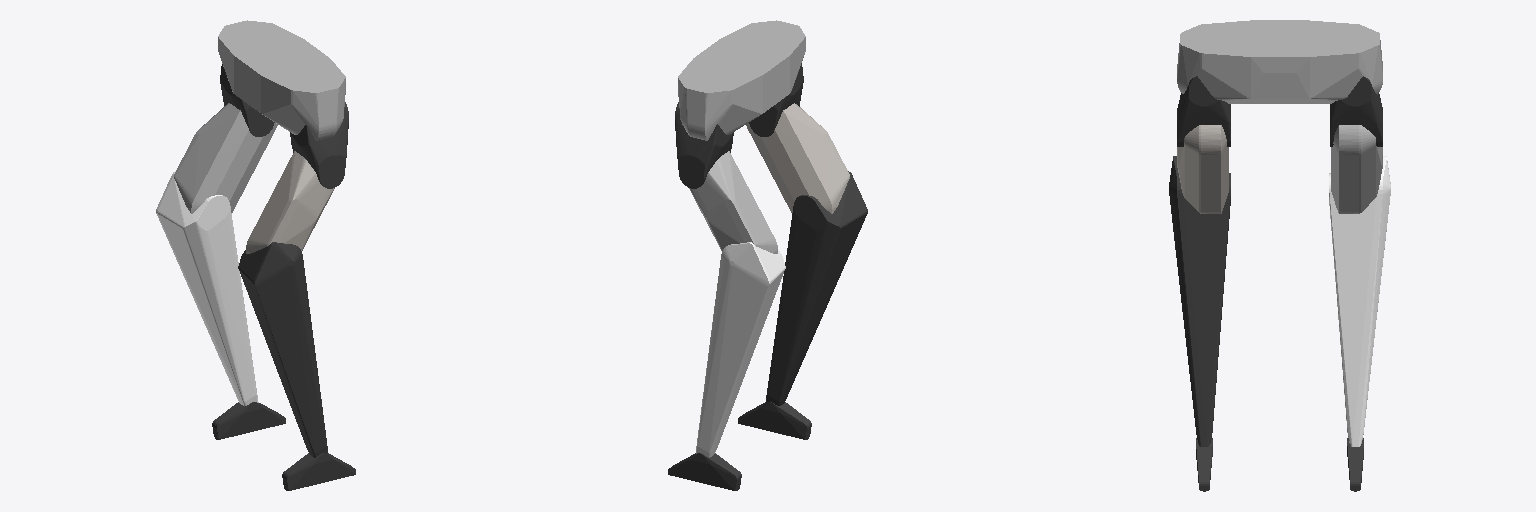
URDF robot description (spryped_urdf_rev06):
<?xml version="1.0" encoding="utf-8"?>
<!-- This URDF was automatically created by SolidWorks to URDF Exporter! Originally created by [author] ([email redacted]) 
     Commit Version: 1.5.1-0-g916b5db  Build Version: 1.5.7152.31018
     For more information, please see http://wiki.ros.org/sw_urdf_exporter -->
<robot
  name="spryped_urdf_rev06">
  <link
    name="body">
    <inertial>
      <origin
        xyz="0.047181 -3.0609E-06 0.076165"
        rpy="0 0 0" />
      <mass
        value="3.7038" />
      <inertia
        ixx="0.0033545"
        ixy="-3.2672E-09"
        ixz="8.3384E-06"
        iyy="0.0042956"
        iyz="-2.3336E-06"
        izz="0.0059126" />
    </inertial>
    <visual>
      <origin
        xyz="0 0 0"
        rpy="0 0 0" />
      <geometry>
        <mesh
          filename="package://spryped_urdf_rev06/meshes/body.STL" />
      </geometry>
      <material
        name="">
        <color
          rgba="0.75294 0.75294 0.75294 1" />
      </material>
    </visual>
    <collision>
      <origin
        xyz="0 0 0"
        rpy="0 0 0" />
      <geometry>
        <mesh
          filename="package://spryped_urdf_rev06/meshes/body.STL" />
      </geometry>
    </collision>
  </link>
  <link
    name="left femur">
    <inertial>
      <origin
        xyz="0.00069777 0.056842 0.0014637"
        rpy="0 0 0" />
      <mass
        value="0.30999" />
      <inertia
        ixx="0.00070116"
        ixy="3.5726E-05"
        ixz="9.483E-08"
        iyy="0.00059024"
        iyz="-3.5642E-05"
        izz="0.00069104" />
    </inertial>
    <visual>
      <origin
        xyz="0 0 0"
        rpy="0 0 0" />
      <geometry>
        <mesh
          filename="package://spryped_urdf_rev06/meshes/left femur.STL" />
      </geometry>
      <material
        name="">
        <color
          rgba="0.29804 0.29804 0.29804 1" />
      </material>
    </visual>
    <collision>
      <origin
        xyz="0 0 0"
        rpy="0 0 0" />
      <geometry>
        <mesh
          filename="package://spryped_urdf_rev06/meshes/left femur.STL" />
      </geometry>
    </collision>
  </link>
  <joint
    name="1"
    type="revolute">
    <origin
      xyz="0.051822 0.144 0.055904"
      rpy="-1.5708 0 0" />
    <parent
      link="body" />
    <child
      link="left femur" />
    <axis
      xyz="1 0 0" />
    <limit
      lower="-3.14"
      upper="3.14"
      effort="0"
      velocity="0" />
  </joint>
  <link
    name="left tibiotarsus">
    <inertial>
      <origin
        xyz="-0.0535 0.08423 -0.00048074"
        rpy="0 0 0" />
      <mass
        value="2.8773" />
      <inertia
        ixx="0.0034958"
        ixy="0.0014826"
        ixz="-8.2901E-08"
        iyy="0.0022584"
        iyz="1.2361E-07"
        izz="0.0053351" />
    </inertial>
    <visual>
      <origin
        xyz="0 0 0"
        rpy="0 0 0" />
      <geometry>
        <mesh
          filename="package://spryped_urdf_rev06/meshes/left tibiotarsus.STL" />
      </geometry>
      <material
        name="">
        <color
          rgba="0.75294 0.75294 0.75294 1" />
      </material>
    </visual>
    <collision>
      <origin
        xyz="0 0 0"
        rpy="0 0 0" />
      <geometry>
        <mesh
          filename="package://spryped_urdf_rev06/meshes/left tibiotarsus.STL" />
      </geometry>
    </collision>
  </link>
  <joint
    name="2"
    type="revolute">
    <origin
      xyz="0 0.114 0"
      rpy="0 0 0" />
    <parent
      link="left femur" />
    <child
      link="left tibiotarsus" />
    <axis
      xyz="0 0 -1" />
    <limit
      lower="-3.14"
      upper="3.14"
      effort="0"
      velocity="0" />
  </joint>
  <link
    name="left tarsometatarsus">
    <inertial>
      <origin
        xyz="0.053129 0.093369 0.015338"
        rpy="0 0 0" />
      <mass
        value="0.38839" />
      <inertia
        ixx="0.00096573"
        ixy="-0.00056636"
        ixz="-1.259E-05"
        iyy="0.0010982"
        iyz="4.5106E-05"
        izz="0.0015965" />
    </inertial>
    <visual>
      <origin
        xyz="0 0 0"
        rpy="0 0 0" />
      <geometry>
        <mesh
          filename="package://spryped_urdf_rev06/meshes/left tarsometatarsus.STL" />
      </geometry>
      <material
        name="">
        <color
          rgba="1 1 1 1" />
      </material>
    </visual>
    <collision>
      <origin
        xyz="0 0 0"
        rpy="0 0 0" />
      <geometry>
        <mesh
          filename="package://spryped_urdf_rev06/meshes/left tarsometatarsus.STL" />
      </geometry>
    </collision>
  </link>
  <joint
    name="3"
    type="revolute">
    <origin
      xyz="-0.105453933582408 0.168761571135129 0"
      rpy="0 0 0.558505360638189" />
    <parent
      link="left tibiotarsus" />
    <child
      link="left tarsometatarsus" />
    <axis
      xyz="0 0 -1" />
    <limit
      lower="-3.14"
      upper="3.14"
      effort="0"
      velocity="0" />
  </joint>
  <link
    name="left toe">
    <inertial>
      <origin
        xyz="-0.015193 0.029454 -8.5534E-11"
        rpy="0 0 0" />
      <mass
        value="0.11189" />
      <inertia
        ixx="4.0659E-05"
        ixy="-3.5337E-05"
        ixz="7.6361E-13"
        iyy="0.00018716"
        iyz="7.4475E-14"
        izz="0.00021756" />
    </inertial>
    <visual>
      <origin
        xyz="0 0 0"
        rpy="0 0 0" />
      <geometry>
        <mesh
          filename="package://spryped_urdf_rev06/meshes/left toe.STL" />
      </geometry>
      <material
        name="">
        <color
          rgba="0.29804 0.29804 0.29804 1" />
      </material>
    </visual>
    <collision>
      <origin
        xyz="0 0 0"
        rpy="0 0 0" />
      <geometry>
        <mesh
          filename="package://spryped_urdf_rev06/meshes/left toe.STL" />
      </geometry>
    </collision>
  </link>
  <joint
    name="4"
    type="revolute">
    <origin
      xyz="0.348429623081206 0.358603956697683 -0.000249999999999057"
      rpy="0 0 -0.771008986271208" />
    <parent
      link="left tarsometatarsus" />
    <child
      link="left toe" />
    <axis
      xyz="0 0 -1" />
    <limit
      lower="-0.7"
      upper="0.9"
      effort="0"
      velocity="0" />
  </joint>
  <link
    name="right femur">
    <inertial>
      <origin
        xyz="0.00069773 0.056842 -0.0014638"
        rpy="0 0 0" />
      <mass
        value="0.30999" />
      <inertia
        ixx="0.00070116"
        ixy="3.5726E-05"
        ixz="-9.5179E-08"
        iyy="0.00059025"
        iyz="3.5642E-05"
        izz="0.00069104" />
    </inertial>
    <visual>
      <origin
        xyz="0 0 0"
        rpy="0 0 0" />
      <geometry>
        <mesh
          filename="package://spryped_urdf_rev06/meshes/right femur.STL" />
      </geometry>
      <material
        name="">
        <color
          rgba="0.29804 0.29804 0.29804 1" />
      </material>
    </visual>
    <collision>
      <origin
        xyz="0 0 0"
        rpy="0 0 0" />
      <geometry>
        <mesh
          filename="package://spryped_urdf_rev06/meshes/right femur.STL" />
      </geometry>
    </collision>
  </link>
  <joint
    name="5"
    type="revolute">
    <origin
      xyz="0.051822 -0.144 0.055904"
      rpy="-1.5708 0 0" />
    <parent
      link="body" />
    <child
      link="right femur" />
    <axis
      xyz="1 0 0" />
    <limit
      lower="-3.14"
      upper="3.14"
      effort="0"
      velocity="0" />
  </joint>
  <link
    name="right tibiotarsus">
    <inertial>
      <origin
        xyz="-0.053501 0.08423 0.00041314"
        rpy="0 0 0" />
      <mass
        value="2.8772" />
      <inertia
        ixx="0.0034958"
        ixy="0.0014826"
        ixz="7.9551E-08"
        iyy="0.0022584"
        iyz="-1.374E-07"
        izz="0.0053351" />
    </inertial>
    <visual>
      <origin
        xyz="0 0 0"
        rpy="0 0 0" />
      <geometry>
        <mesh
          filename="package://spryped_urdf_rev06/meshes/right tibiotarsus.STL" />
      </geometry>
      <material
        name="">
        <color
          rgba="0.77647 0.75686 0.73725 1" />
      </material>
    </visual>
    <collision>
      <origin
        xyz="0 0 0"
        rpy="0 0 0" />
      <geometry>
        <mesh
          filename="package://spryped_urdf_rev06/meshes/right tibiotarsus.STL" />
      </geometry>
    </collision>
  </link>
  <joint
    name="6"
    type="revolute">
    <origin
      xyz="0 0.114000000000013 0"
      rpy="0 0 0" />
    <parent
      link="right femur" />
    <child
      link="right tibiotarsus" />
    <axis
      xyz="0 0 1" />
    <limit
      lower="-3.14"
      upper="3.14"
      effort="0"
      velocity="0" />
  </joint>
  <link
    name="right tarsometatarsus">
    <inertial>
      <origin
        xyz="0.053129 0.093369 -0.015837"
        rpy="0 0 0" />
      <mass
        value="0.38839" />
      <inertia
        ixx="0.00096573"
        ixy="-0.00056636"
        ixz="1.2589E-05"
        iyy="0.0010982"
        iyz="-4.5106E-05"
        izz="0.0015965" />
    </inertial>
    <visual>
      <origin
        xyz="0 0 0"
        rpy="0 0 0" />
      <geometry>
        <mesh
          filename="package://spryped_urdf_rev06/meshes/right tarsometatarsus.STL" />
      </geometry>
      <material
        name="">
        <color
          rgba="0.29804 0.29804 0.29804 1" />
      </material>
    </visual>
    <collision>
      <origin
        xyz="0 0 0"
        rpy="0 0 0" />
      <geometry>
        <mesh
          filename="package://spryped_urdf_rev06/meshes/right tarsometatarsus.STL" />
      </geometry>
    </collision>
  </link>
  <joint
    name="7"
    type="revolute">
    <origin
      xyz="-0.105453933582408 0.168761571135127 0"
      rpy="0 0 0.55850536063819" />
    <parent
      link="right tibiotarsus" />
    <child
      link="right tarsometatarsus" />
    <axis
      xyz="0 0 1" />
    <limit
      lower="-3.14"
      upper="3.14"
      effort="0"
      velocity="0" />
  </joint>
  <link
    name="right toe">
    <inertial>
      <origin
        xyz="-0.015193 0.029454 -8.5534E-11"
        rpy="0 0 0" />
      <mass
        value="0.11189" />
      <inertia
        ixx="4.0659E-05"
        ixy="-3.5337E-05"
        ixz="7.6361E-13"
        iyy="0.00018716"
        iyz="7.4475E-14"
        izz="0.00021756" />
    </inertial>
    <visual>
      <origin
        xyz="0 0 0"
        rpy="0 0 0" />
      <geometry>
        <mesh
          filename="package://spryped_urdf_rev06/meshes/right toe.STL" />
      </geometry>
      <material
        name="">
        <color
          rgba="0.29804 0.29804 0.29804 1" />
      </material>
    </visual>
    <collision>
      <origin
        xyz="0 0 0"
        rpy="0 0 0" />
      <geometry>
        <mesh
          filename="package://spryped_urdf_rev06/meshes/right toe.STL" />
      </geometry>
    </collision>
  </link>
  <joint
    name="8"
    type="revolute">
    <origin
      xyz="0.348429623081197 0.358603956697689 -0.000250000000000111"
      rpy="0 0 -0.771008986271209" />
    <parent
      link="right tarsometatarsus" />
    <child
      link="right toe" />
    <axis
      xyz="0 0 -1" />
    <limit
      lower="-0.7"
      upper="0.9"
      effort="0"
      velocity="0" />
  </joint>
</robot>

--- Facts derived from the render (not from the file) ---
Views: 3 orthographic renders of the robot side by side, from view 1: azimuth 30°, elevation 25°; view 2: azimuth 150°, elevation 25°; view 3: azimuth 270°, elevation 25°.
Model spryped_urdf_rev06 with 9 links and 8 joints (8 revolute), rooted at body, posed all joints at 0.
Links seen in each view (by area): view 1: body, left tarsometatarsus, right tarsometatarsus, left tibiotarsus, right tibiotarsus, right femur, left toe, right toe, left femur; view 2: body, right tarsometatarsus, left tarsometatarsus, right tibiotarsus, left tibiotarsus, left femur, left toe, right toe, right femur; view 3: body, right tarsometatarsus, left tarsometatarsus, left tibiotarsus, right tibiotarsus, right femur, left femur, left toe, right toe.
Link boxes in pixels (x1=…): body: x1=218, y1=20, x2=345, y2=140; left tarsometatarsus: x1=156, y1=171, x2=258, y2=405; right tarsometatarsus: x1=238, y1=242, x2=327, y2=457; left tibiotarsus: x1=174, y1=103, x2=277, y2=213; right tibiotarsus: x1=246, y1=151, x2=334, y2=253; right femur: x1=290, y1=102, x2=348, y2=188; left toe: x1=212, y1=402, x2=285, y2=439; right toe: x1=282, y1=453, x2=355, y2=490; left femur: x1=220, y1=64, x2=274, y2=136; body: x1=678, y1=20, x2=805, y2=140; right tarsometatarsus: x1=765, y1=171, x2=867, y2=405; left tarsometatarsus: x1=696, y1=242, x2=785, y2=457; right tibiotarsus: x1=746, y1=103, x2=849, y2=213; left tibiotarsus: x1=689, y1=151, x2=777, y2=253; left femur: x1=675, y1=102, x2=733, y2=188; left toe: x1=668, y1=453, x2=741, y2=490; right toe: x1=738, y1=402, x2=811, y2=439; right femur: x1=749, y1=63, x2=803, y2=136; body: x1=1177, y1=20, x2=1382, y2=103; right tarsometatarsus: x1=1169, y1=156, x2=1230, y2=446; left tarsometatarsus: x1=1329, y1=156, x2=1390, y2=446; left tibiotarsus: x1=1331, y1=125, x2=1382, y2=213; right tibiotarsus: x1=1177, y1=125, x2=1228, y2=213; right femur: x1=1177, y1=76, x2=1230, y2=146; left femur: x1=1330, y1=76, x2=1382, y2=146; left toe: x1=1347, y1=438, x2=1363, y2=491; right toe: x1=1196, y1=438, x2=1212, y2=491.
Size in the robot's own frame: 0.2695 by 0.4227 by 0.9105 metres.
9 mesh visuals loaded from 9 distinct referenced files (9 binary STL).